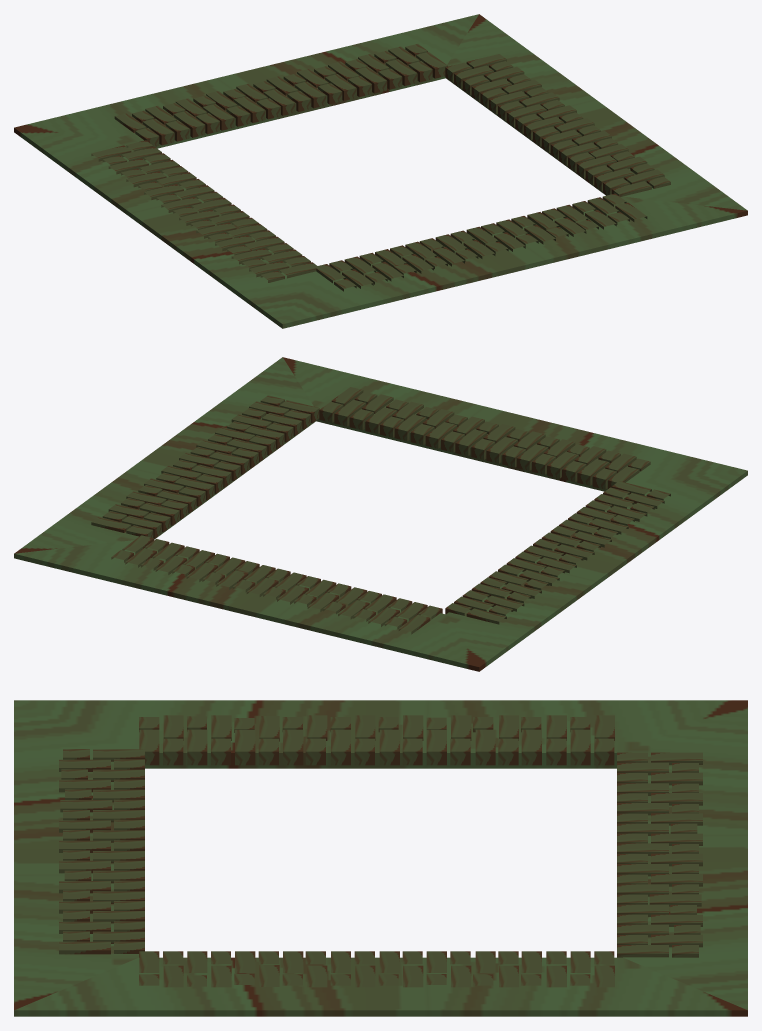
Rendered from Environment_GroundBorder.fbx.
The picture shows the model from 3 angles, top to bottom: view 1: azimuth 30°, elevation 25°; view 2: azimuth 150°, elevation 25°; view 3: azimuth 270°, elevation 25°; orthographic projection. The views are drawn at different scales.
Visible parts, largest first — view 1: GroundBorder; view 2: GroundBorder; view 3: GroundBorder.
Part boxes in pixels (bbox=[...]): GroundBorder: bbox=[14, 14, 747, 328]; GroundBorder: bbox=[14, 357, 747, 671]; GroundBorder: bbox=[14, 700, 747, 1016].
Size of the model in its own units: 3381 by 3381 by 99.37.
